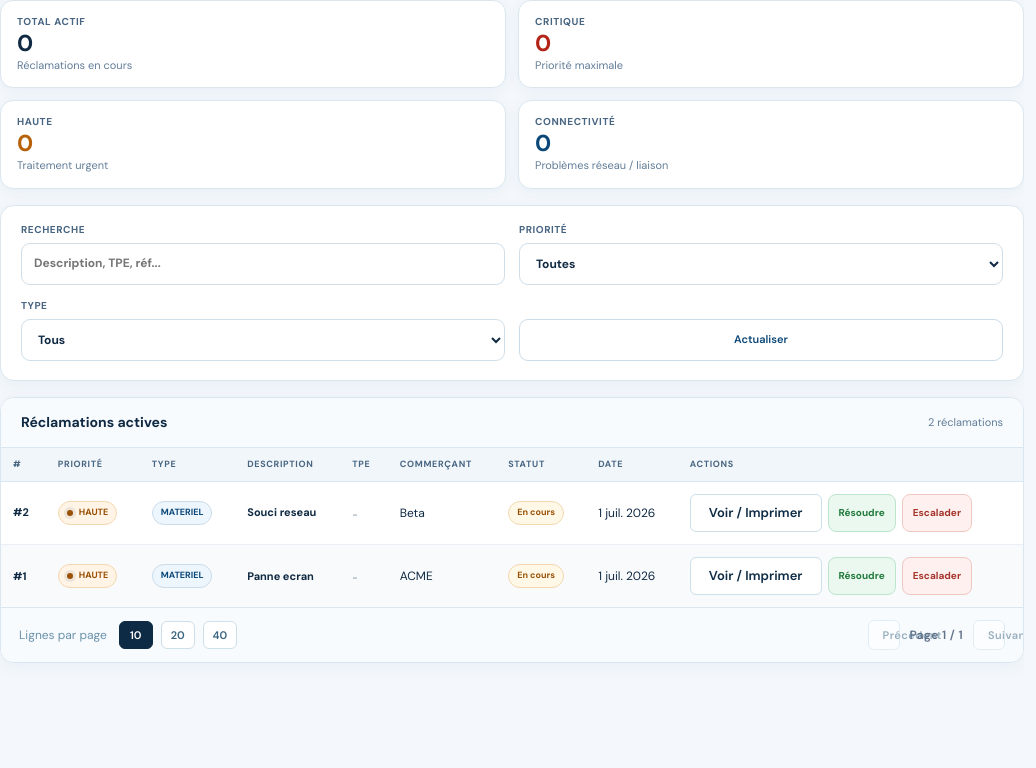
Test: BackofficeReclamationsPage › filtre par recherche texte
Step 1. Type "reseau" into the field with placeholder "Description, TPE, réf..." → (263, 264), box [21,243,505,285]
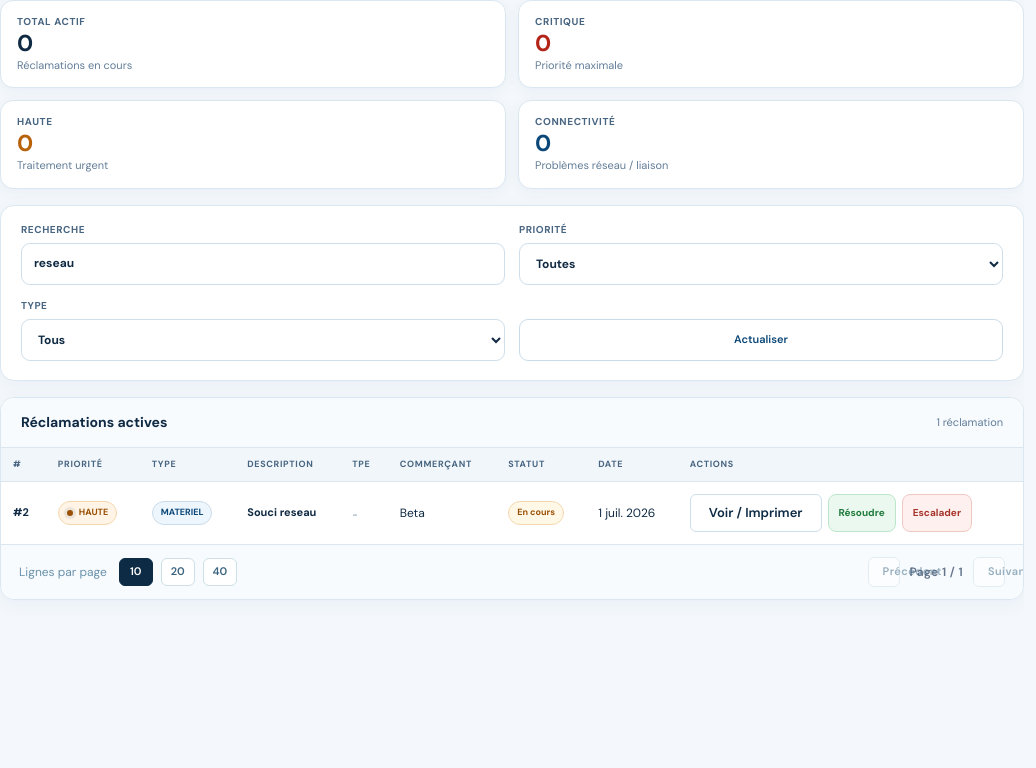
expect the text "Beta" is shown: met, box [388,482,496,544]
expect the text "ACME" is gone: met
